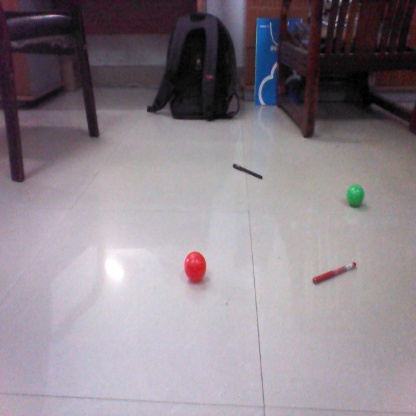ball: (183, 252, 210, 284), (347, 183, 368, 207)
pen: (313, 264, 356, 285), (230, 164, 266, 180)
